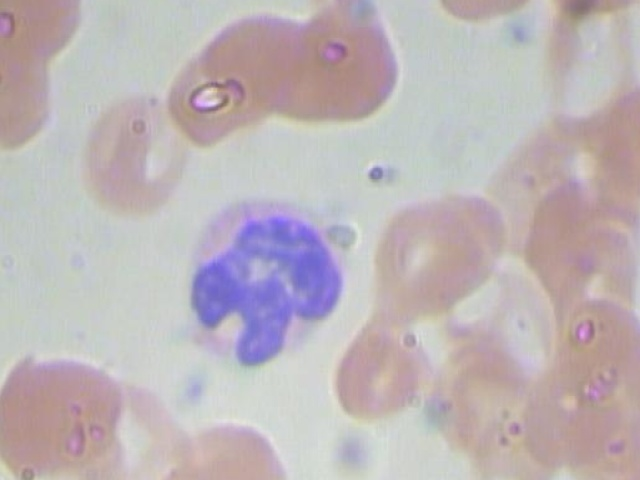Platelets: (329, 423, 385, 478), (168, 356, 224, 411)
RBC: (157, 0, 319, 156), (248, 1, 406, 132), (0, 348, 125, 480), (75, 85, 201, 215), (532, 0, 640, 136), (322, 306, 437, 430), (368, 187, 483, 311), (554, 287, 640, 438), (146, 411, 296, 480), (0, 16, 69, 154), (600, 73, 640, 217), (415, 0, 571, 36), (0, 0, 94, 53), (436, 446, 559, 480), (297, 0, 386, 24)
WBC: (172, 182, 352, 376)
